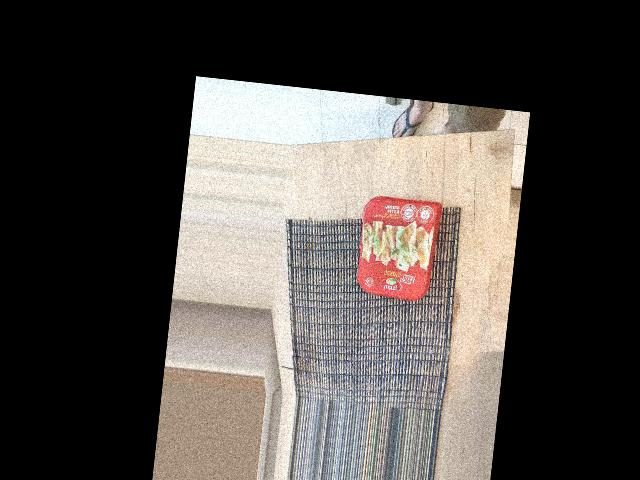cheese: (349, 185, 443, 306)
